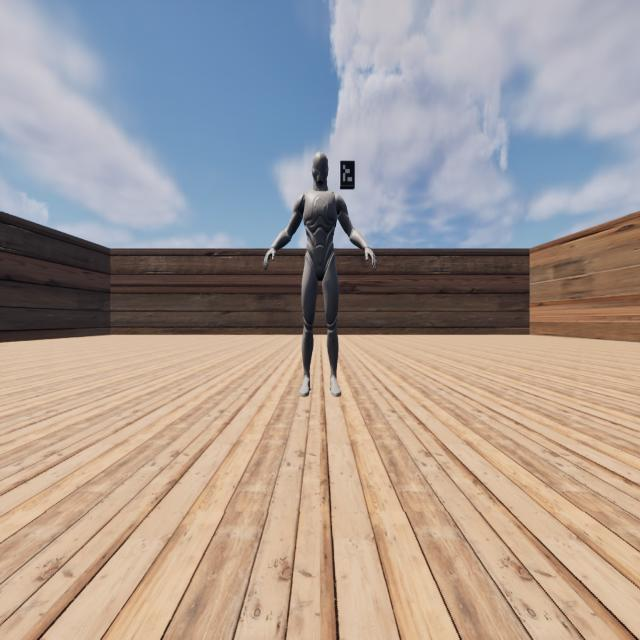aruco: (340, 161, 355, 187)
hip: (304, 253, 335, 264)
